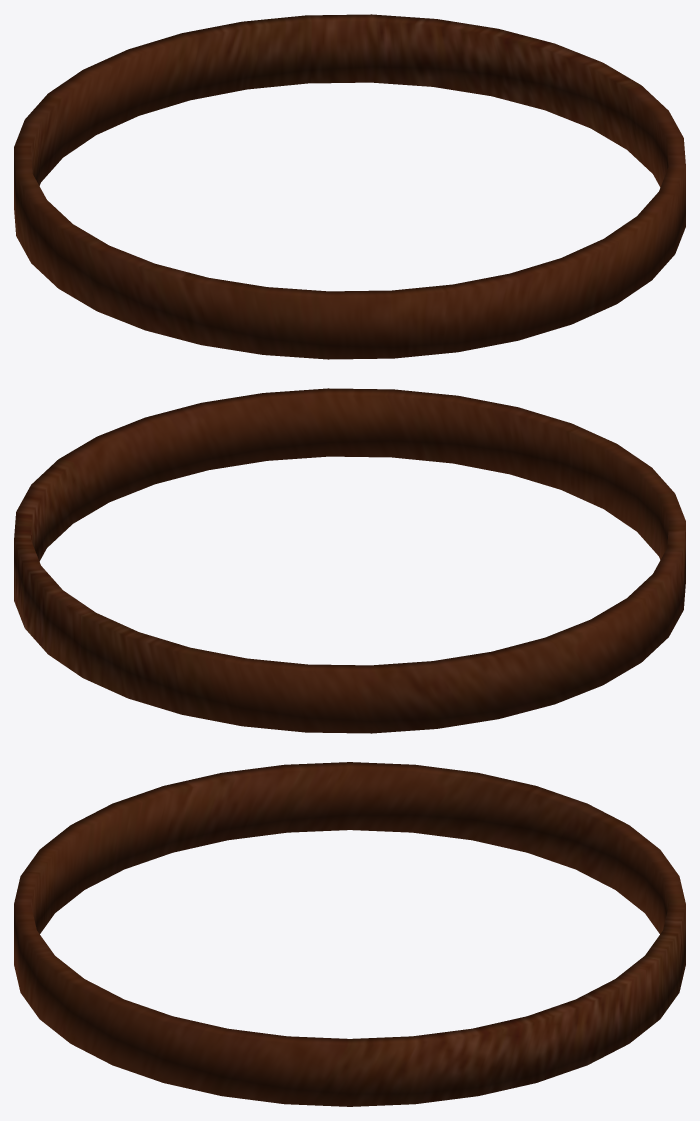
File: dogcollarleather.glb
3 renders of one model, top to bottom at view 1: azimuth 30°, elevation 25°; view 2: azimuth 150°, elevation 25°; view 3: azimuth 270°, elevation 25°, orthographic.
Visible parts, largest first — view 1: Cylinder_0; view 2: Cylinder_0; view 3: Cylinder_0.
Boxes of the visible parts, x1,y1,x2,y2 form: Cylinder_0: (14,14,685,359); Cylinder_0: (14,388,685,733); Cylinder_0: (14,762,685,1106).
Bounding box in the file's own units: 0.2 × 0.02 × 0.2.
1 material, 1 textured.
